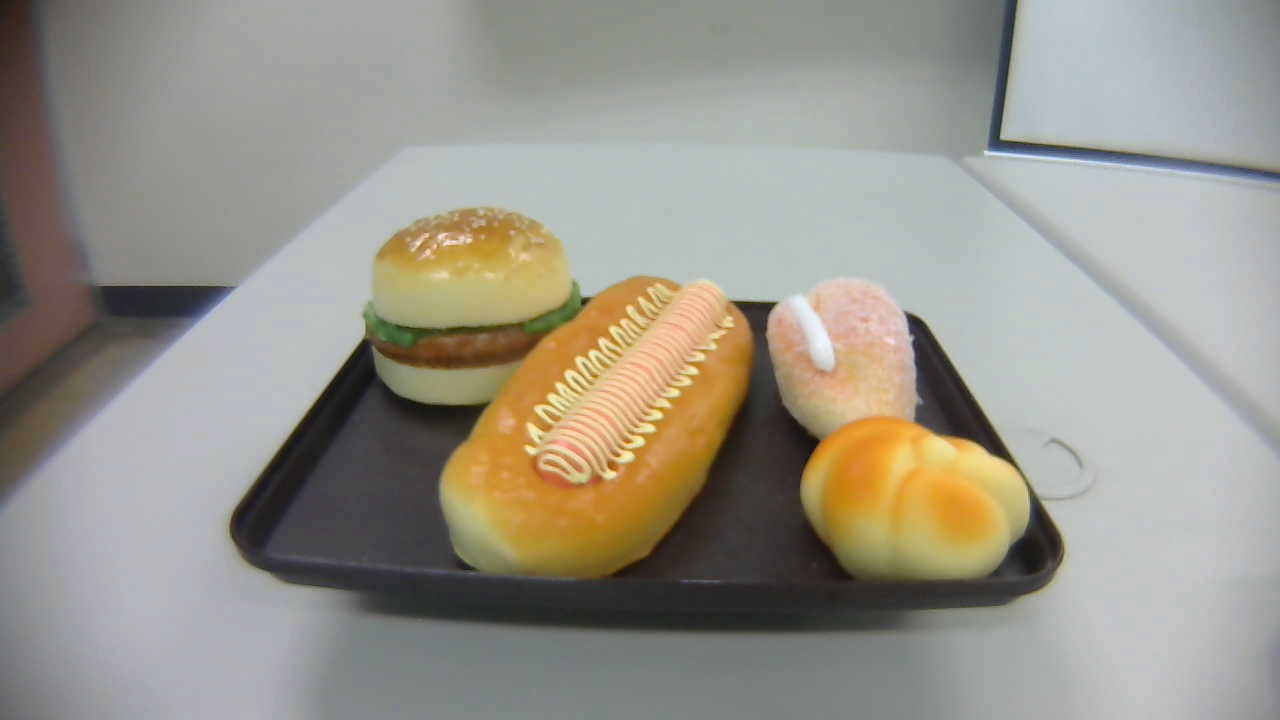coconut: (766, 275, 919, 441)
hamburger: (361, 207, 583, 404)
hot dog: (436, 276, 755, 579)
twist bread: (801, 414, 1030, 594)
